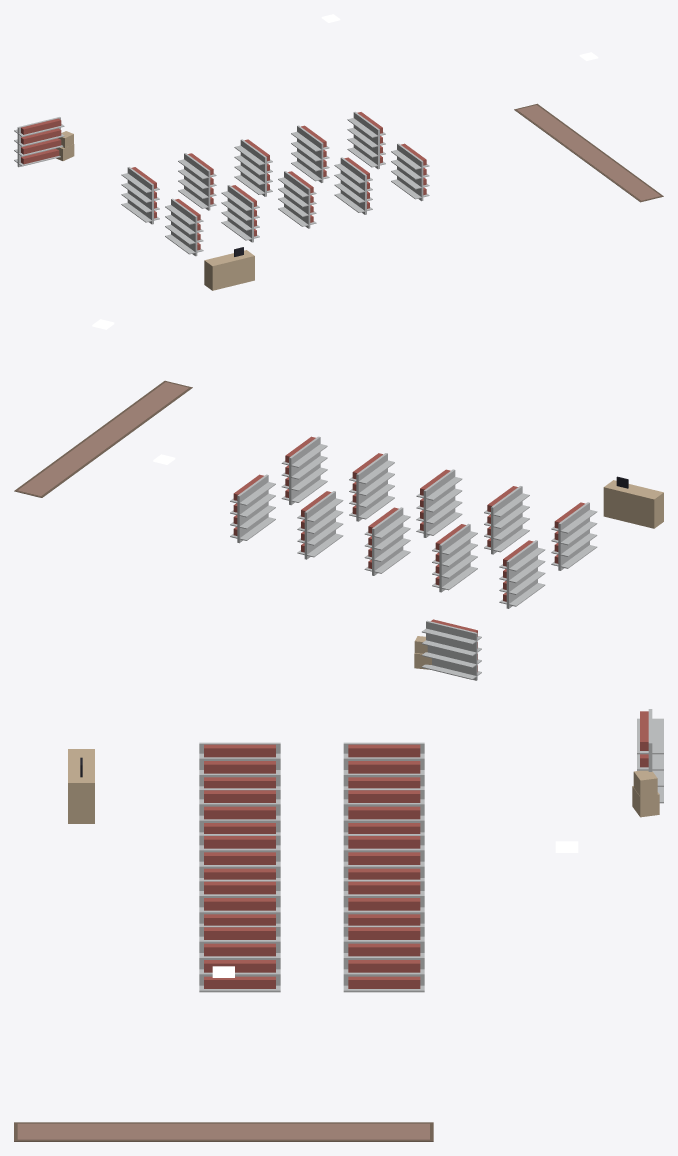
The model's file is fine-s0.glb.
3 renders of one model, top to bottom at view 1: azimuth 30°, elevation 25°; view 2: azimuth 150°, elevation 25°; view 3: azimuth 270°, elevation 25°, orthographic. The views are drawn at different scales.
Visible parts, largest first — view 1: soft-s0, shelving.000, shop-counter.000, shelf.001, shelf.006, shelf.000, shelf.002, shelf.005, shelf.009, shelf.003, shelf.007, shelf.004 (+1 smaller); view 2: soft-s0, shelving.000, shop-counter.000, shelf.001, shelf.005, shelf.004, shelf.009, shelf.007, shelf.008, shelf.002, shelf.003, shelf.000 (+1 smaller); view 3: soft-s0, shelf.008, shelf.009, shelf.001, shelf.007, shelf.006, shelf.000, shelf.002, shelf.003, shelf.004, shelf.005, shop-counter.000 (+2 smaller).
Boxes of the visible parts, <box> form: soft-s0: <box>514,103,663,202</box>; shelving.000: <box>14,117,64,167</box>; shop-counter.000: <box>204,247,254,290</box>; shelf.001: <box>165,198,203,256</box>; shelf.006: <box>291,125,329,182</box>; shelf.000: <box>121,167,159,224</box>; shelf.002: <box>178,153,216,210</box>; shelf.005: <box>278,171,316,228</box>; shelf.009: <box>391,143,429,201</box>; shelf.003: <box>221,185,259,242</box>; shelf.007: <box>334,157,372,214</box>; shelf.004: <box>234,139,272,196</box>; soft-s0: <box>14,380,192,497</box>; shelving.000: <box>421,619,481,680</box>; shop-counter.000: <box>603,476,663,528</box>; shelf.001: <box>551,502,597,570</box>; shelf.005: <box>416,469,462,537</box>; shelf.004: <box>364,507,410,575</box>; shelf.009: <box>281,436,327,505</box>; shelf.007: <box>349,453,394,521</box>; shelf.008: <box>230,474,275,543</box>; shelf.002: <box>432,523,477,592</box>; shelf.003: <box>484,486,529,554</box>; shelf.000: <box>499,540,545,608</box>; soft-s0: <box>14,1122,433,1141</box>; shelf.008: <box>343,925,424,992</box>; shelf.009: <box>199,925,280,992</box>; shelf.001: <box>199,742,280,788</box>; shelf.007: <box>199,879,280,925</box>; shelf.006: <box>343,879,424,925</box>; shelf.000: <box>343,742,424,788</box>; shelf.002: <box>343,788,424,833</box>; shelf.003: <box>199,788,280,833</box>; shelf.004: <box>343,834,424,879</box>; shelf.005: <box>199,834,280,879</box>; shop-counter.000: <box>68,749,94,823</box>.
Bounding box in the file's own units: 19.28 × 3.94 × 14.42.
